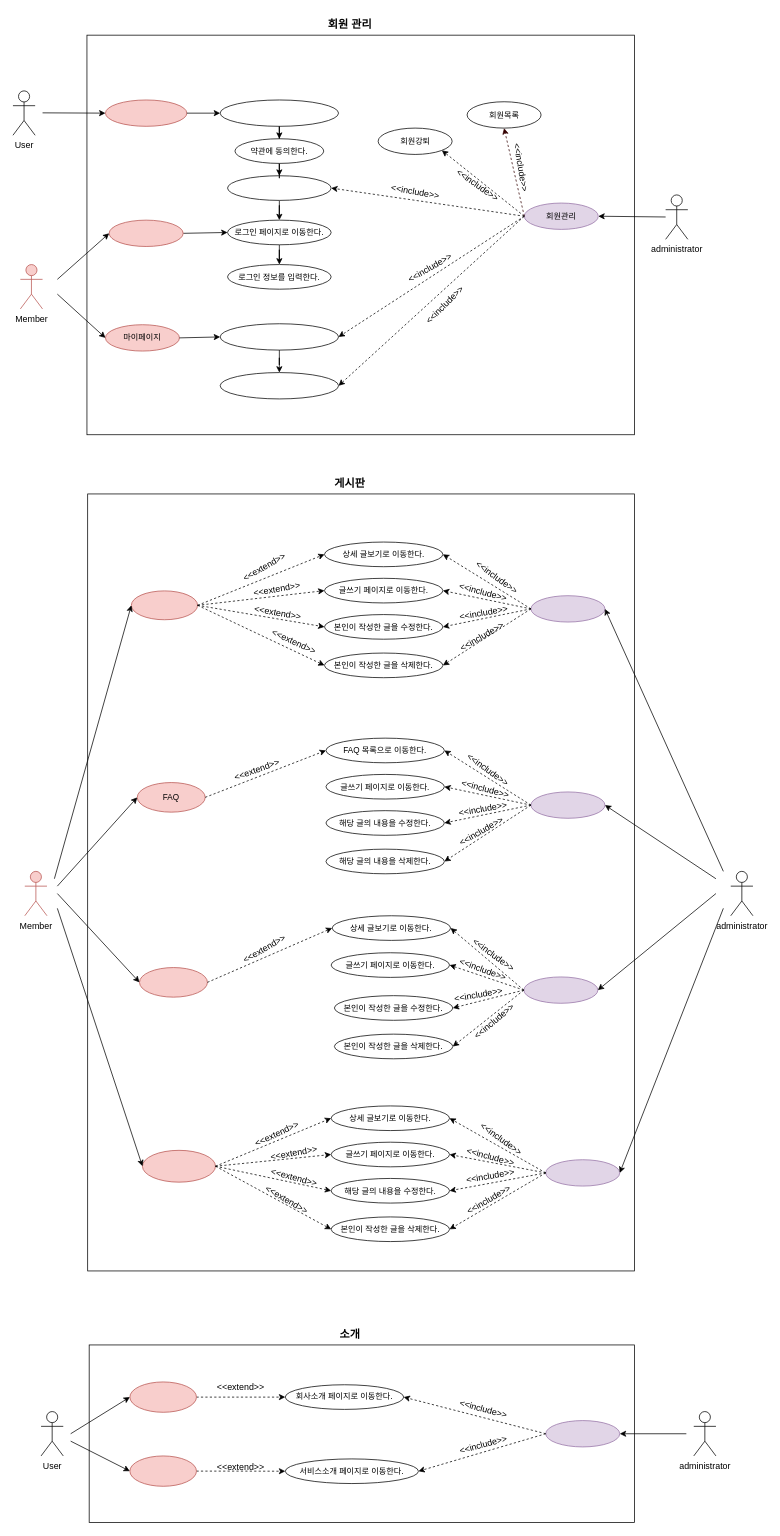
Image size: 780x1536. Some labels were removed from this diagram. The centre of each missing label's shape, as x and y in pixels:
"FAQ 관리" goes at point 567,804.
"QnA" goes at point 178,1166.
"QnA 관리" goes at point 582,1172.
"공지사항" goes at point 173,982.
"공지사항 관리" goes at point 560,989.
"로그인" goes at point 145,232.
"마이페이지로 이동한다." goes at point 279,336.
"서비스 소개" goes at point 162,1470.
"소개 메뉴 관리" goes at point 582,1433.
"커뮤니티 관리" goes at point 567,608.
"학부모 커뮤니티" goes at point 164,605.
"회사소개" goes at point 162,1396.
"회원가입" goes at point 146,112.
"회원가입 페이지로 이동한다." goes at point 279,112.
"회원정보를 수정한다." goes at point 279,385.
"회원정보를 입력한다." goes at point 279,187.
